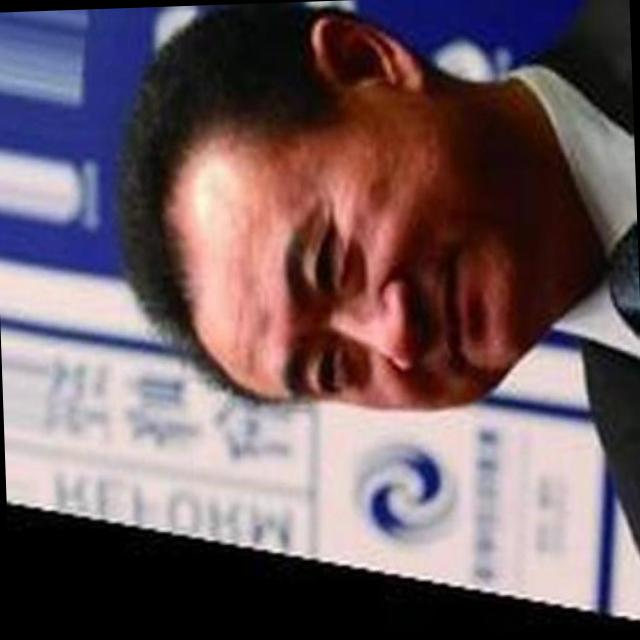bareface: (112, 28, 556, 440)
